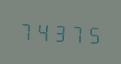five: (86, 21, 102, 46)
four: (35, 18, 51, 43)
seven: (18, 17, 34, 42), (69, 20, 85, 45)
three: (52, 19, 68, 44)
